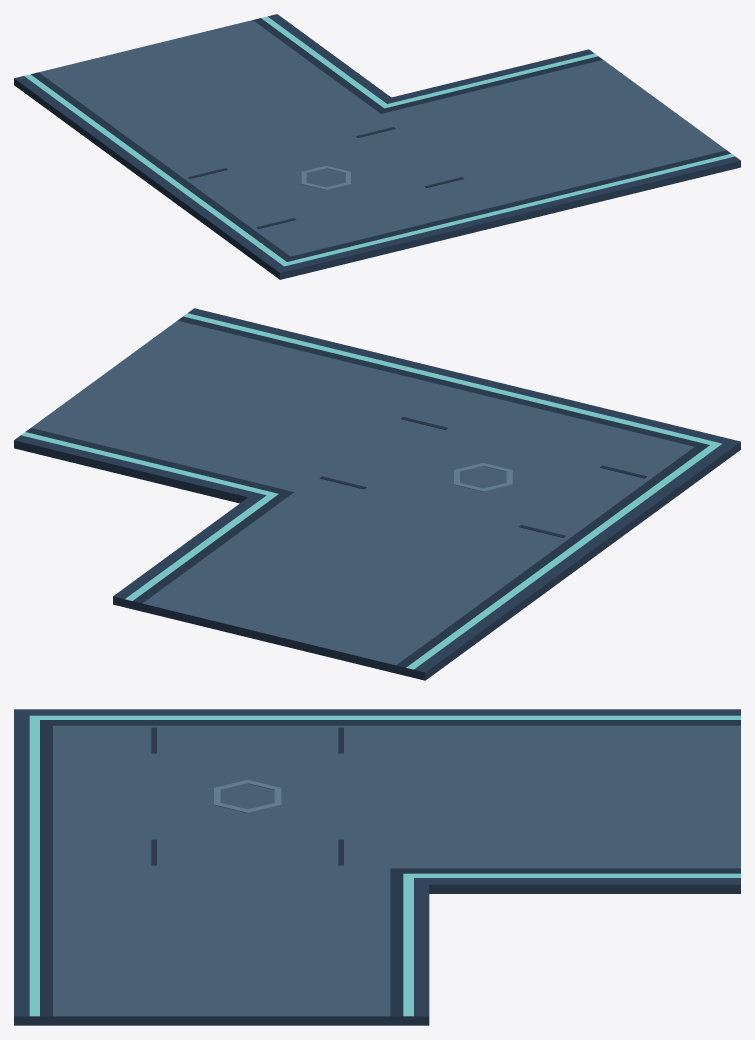
Rendered from campus_walk_corner_v01.glb.
3 renders of one model, top to bottom at view 1: azimuth 30°, elevation 25°; view 2: azimuth 150°, elevation 25°; view 3: azimuth 270°, elevation 25°, orthographic. The views are drawn at different scales.
Visible parts, largest first — view 1: campus_walk_corner; view 2: campus_walk_corner; view 3: campus_walk_corner.
Boxes of the visible parts, x1=… form: campus_walk_corner: x1=14, y1=14, x2=740, y2=279; campus_walk_corner: x1=14, y1=308, x2=740, y2=680; campus_walk_corner: x1=14, y1=709, x2=740, y2=1025.
Bounding box in the file's own units: 5.6 × 0.086 × 5.6.
Materials: 1 (1 with a texture image).
